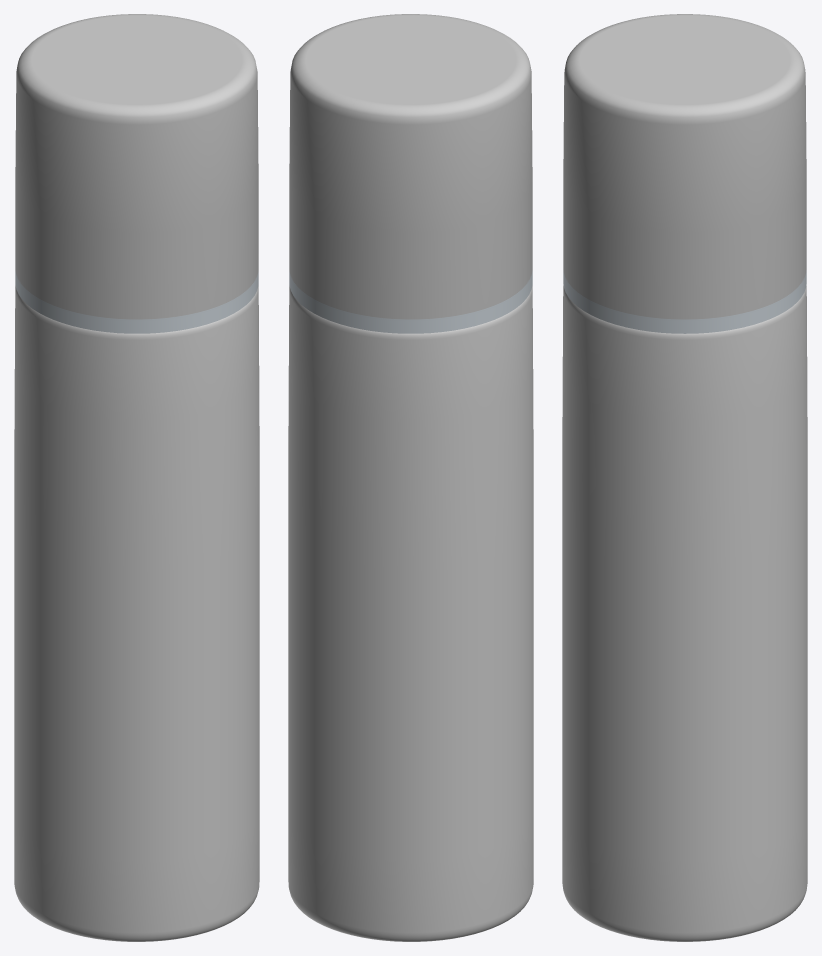
Rendered from spray_bottle.glb.
3 renders of one model, left to right at view 1: azimuth 30°, elevation 25°; view 2: azimuth 150°, elevation 25°; view 3: azimuth 270°, elevation 25°, orthographic.
Parts seen in each view (by area): view 1: Object_2, Object_3; view 2: Object_2, Object_3; view 3: Object_2, Object_3.
Part boxes in pixels (bbox=[...]): Object_2: bbox=[14, 285, 259, 941]; Object_3: bbox=[15, 14, 258, 333]; Object_2: bbox=[288, 285, 533, 941]; Object_3: bbox=[289, 14, 532, 333]; Object_2: bbox=[562, 285, 807, 941]; Object_3: bbox=[563, 14, 806, 333].
Size of the model in its own units: 0.9831 by 3.68 by 0.9831.
2 materials, 1 textured.
